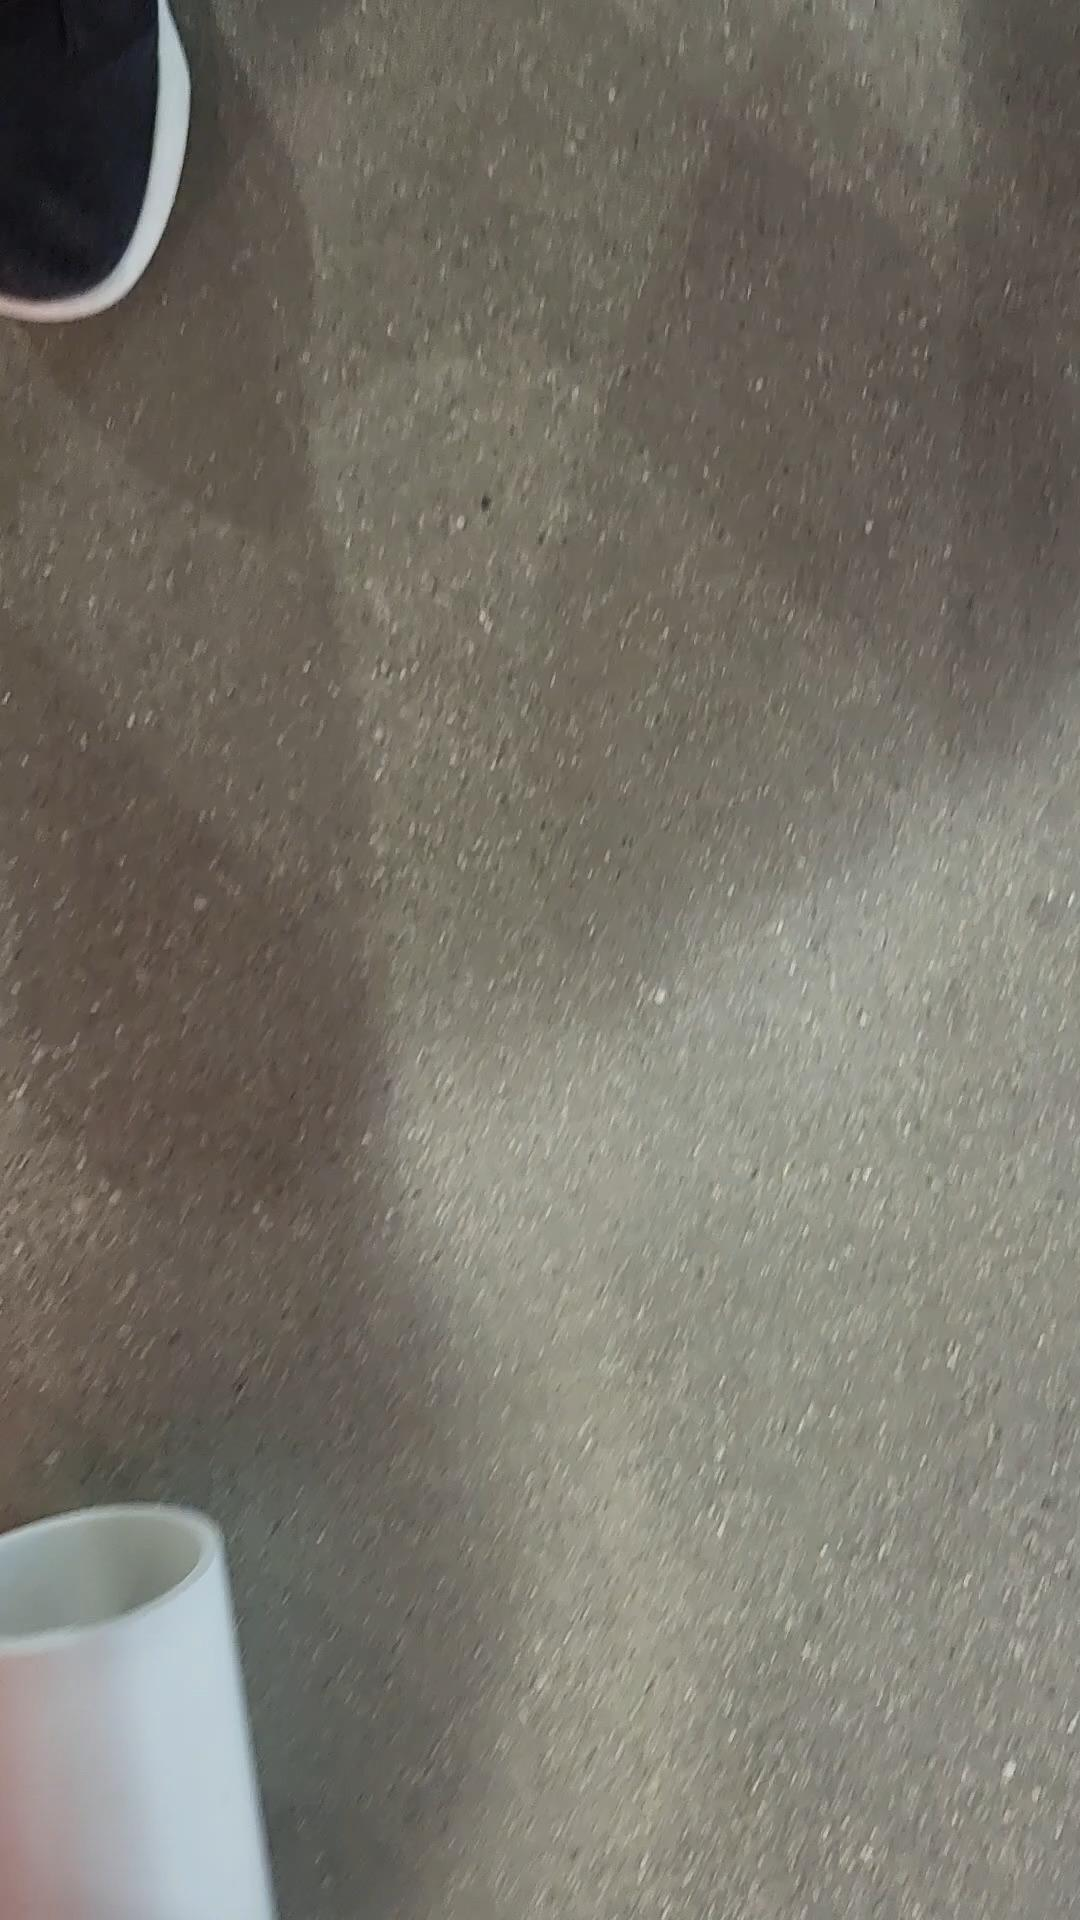coral: (0, 1507, 277, 1919)
